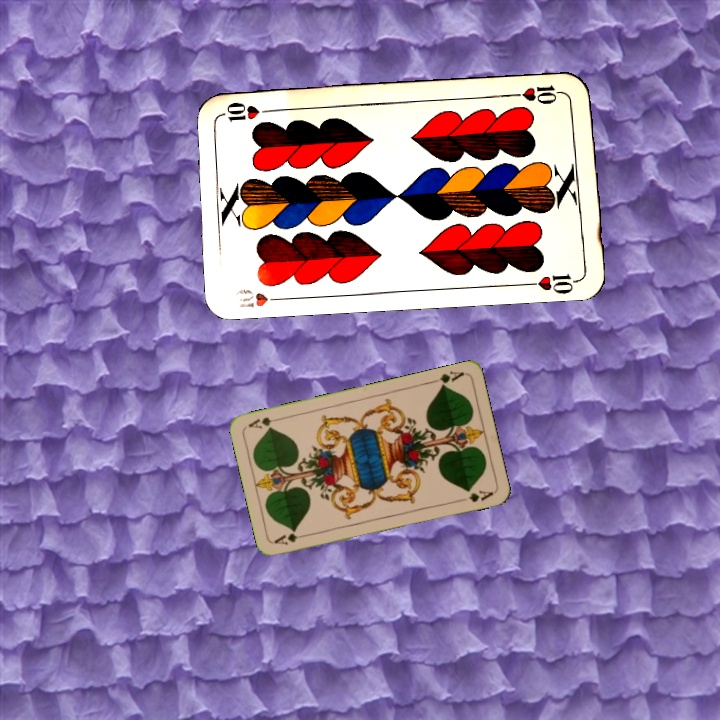GA: (427, 367, 467, 390), (270, 529, 311, 548)
H10: (509, 81, 568, 107), (232, 285, 289, 310)
